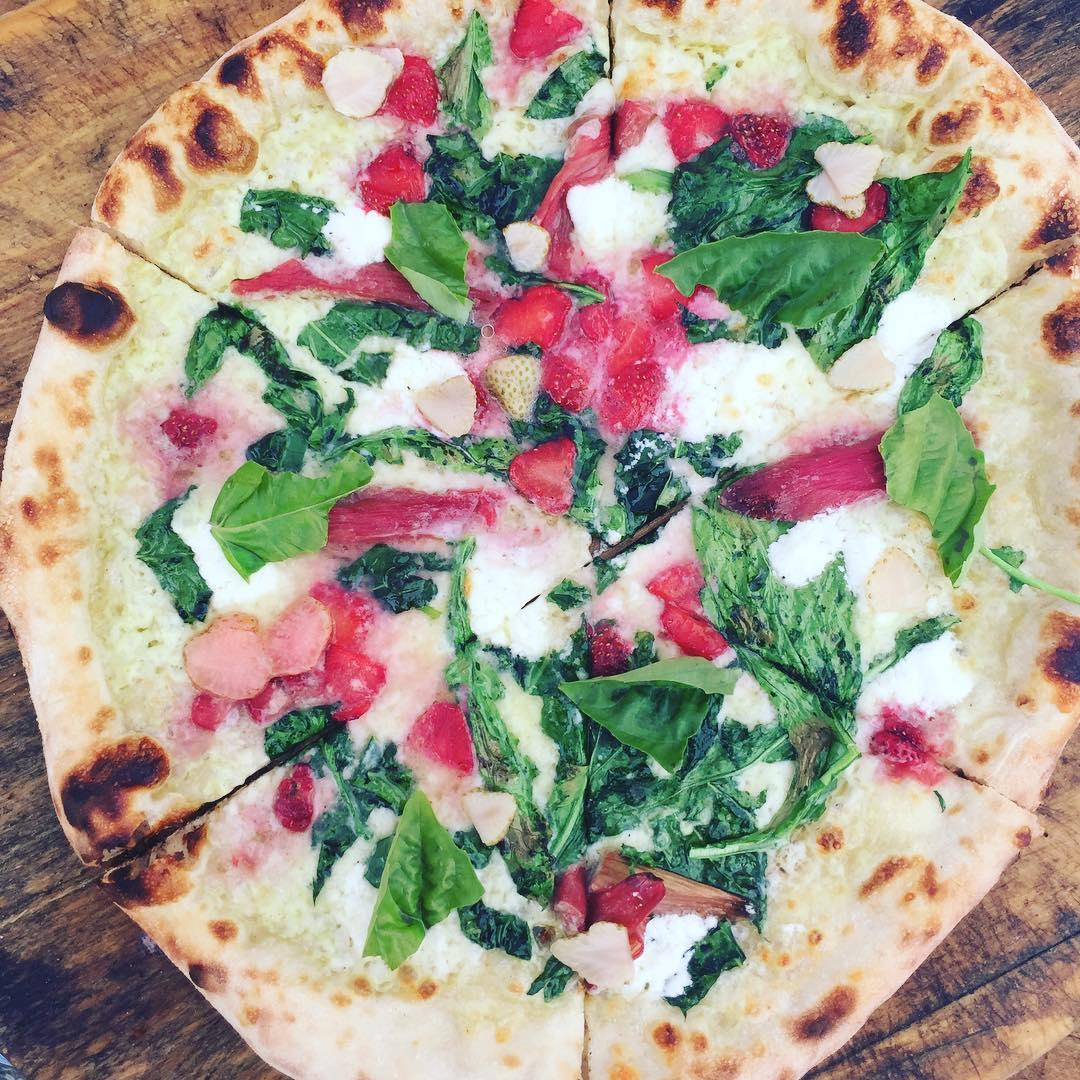Basil: (480, 664, 746, 852), (680, 171, 944, 331), (707, 523, 860, 665), (894, 369, 977, 568), (214, 428, 334, 564)
Pizza: (0, 0, 1080, 1080)
